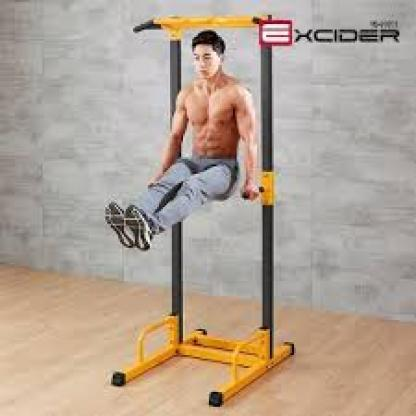chinning dipping: (101, 16, 295, 407)
